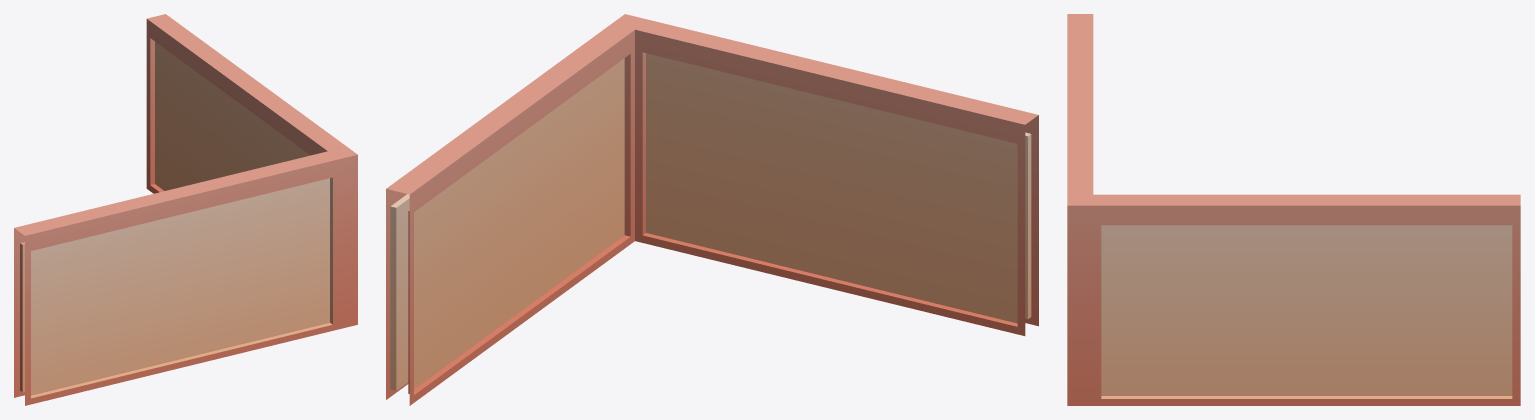
The model's file is WallPasar3.fbx.
3 views of the same model, side by side, from view 1: azimuth 30°, elevation 25°; view 2: azimuth 150°, elevation 25°; view 3: azimuth 270°, elevation 25° (orthographic). The views are drawn at different scales.
Parts seen in each view (by area): view 1: WallPasar3_LOD0; view 2: WallPasar3_LOD0; view 3: WallPasar3_LOD0.
Boxes of the visible parts, x1,y1,x2,y2 form: WallPasar3_LOD0: (14,14,357,405); WallPasar3_LOD0: (386,14,1038,405); WallPasar3_LOD0: (1067,14,1520,405).
Size of what is drawn, in the model's own units: 877 by 428 by 877.
